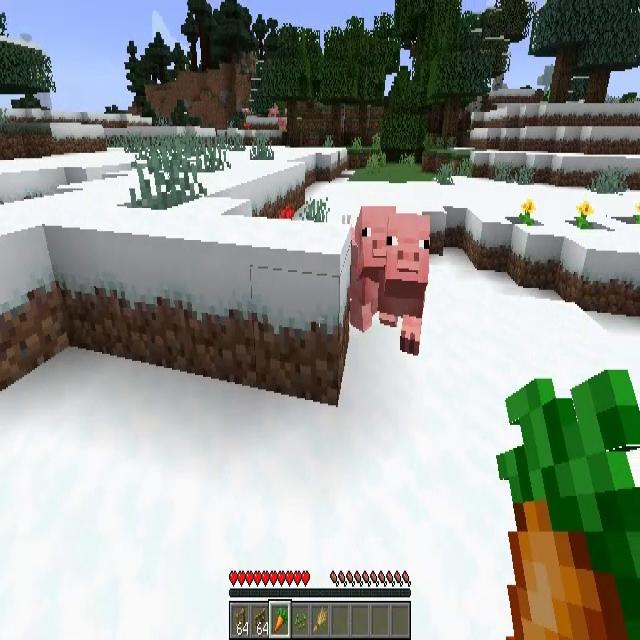flower: (520, 199, 536, 226)
pig: (385, 215, 430, 356), (352, 204, 395, 332)
